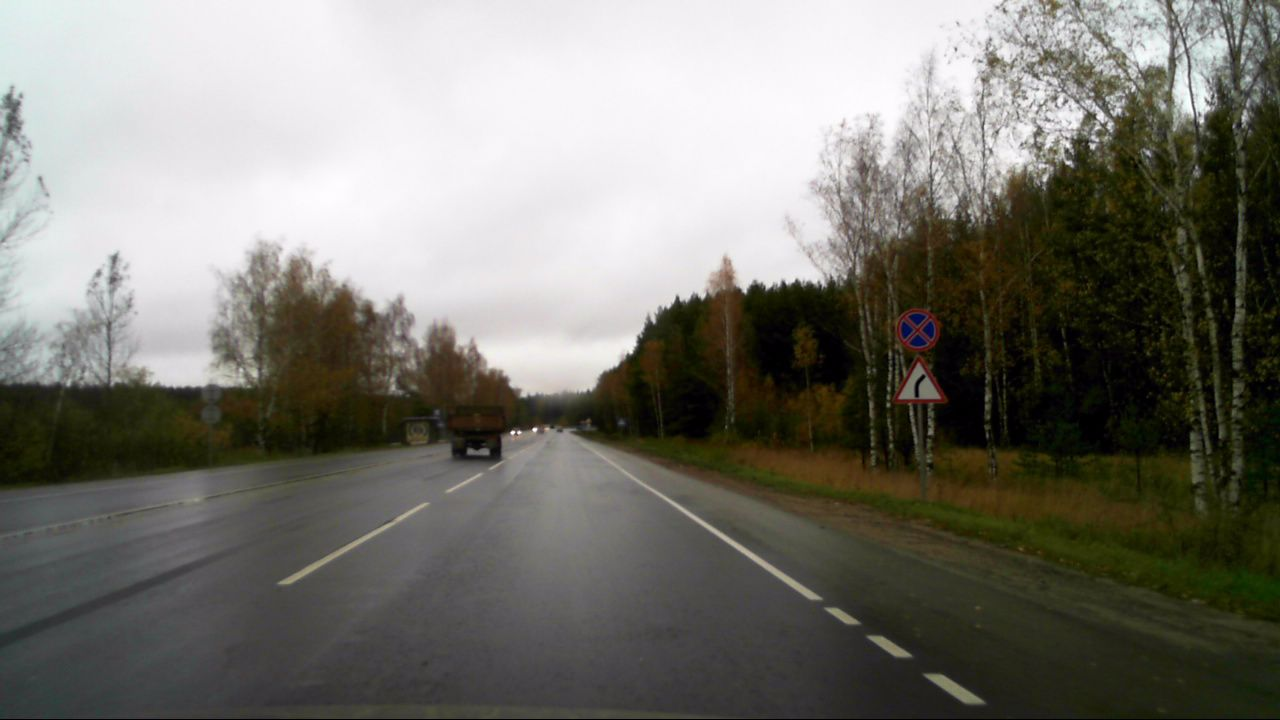No Parking: (893, 306, 941, 353)
